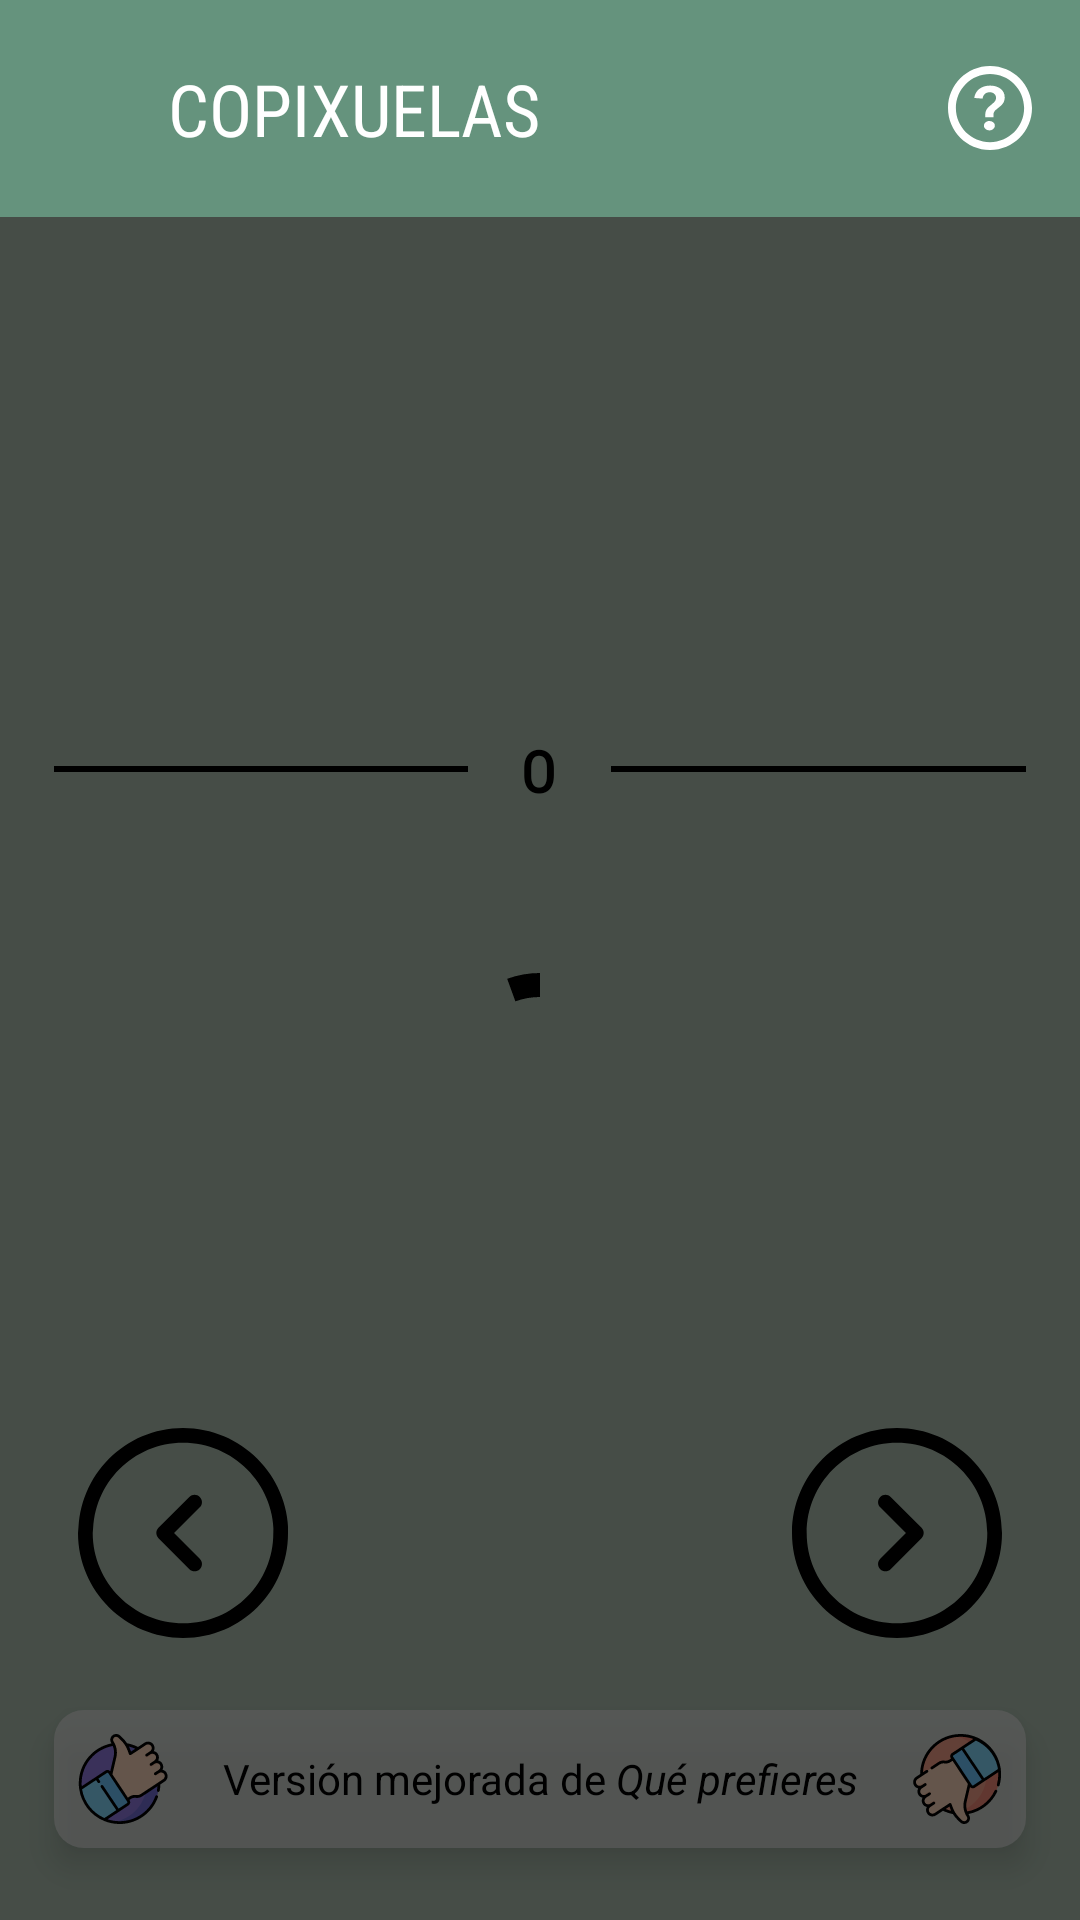

Icons on this 1080px×1920px Android screen, each with the point to tap as [x,y]:
question: [990,108]
